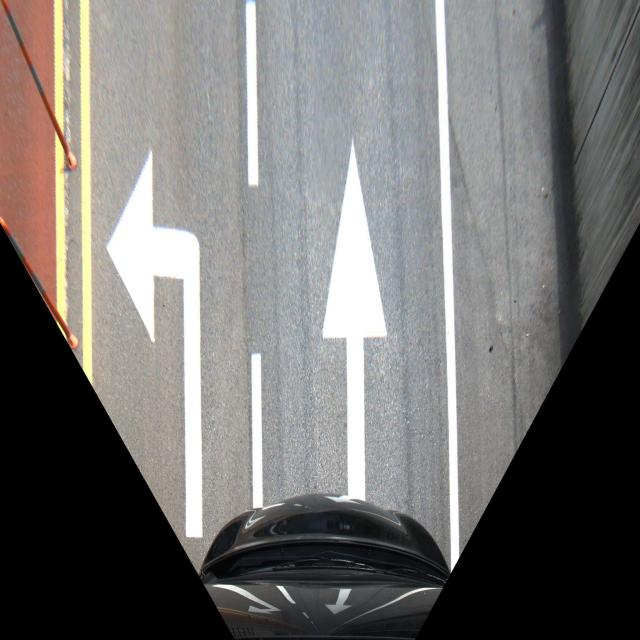forward: (220, 104, 469, 492)
